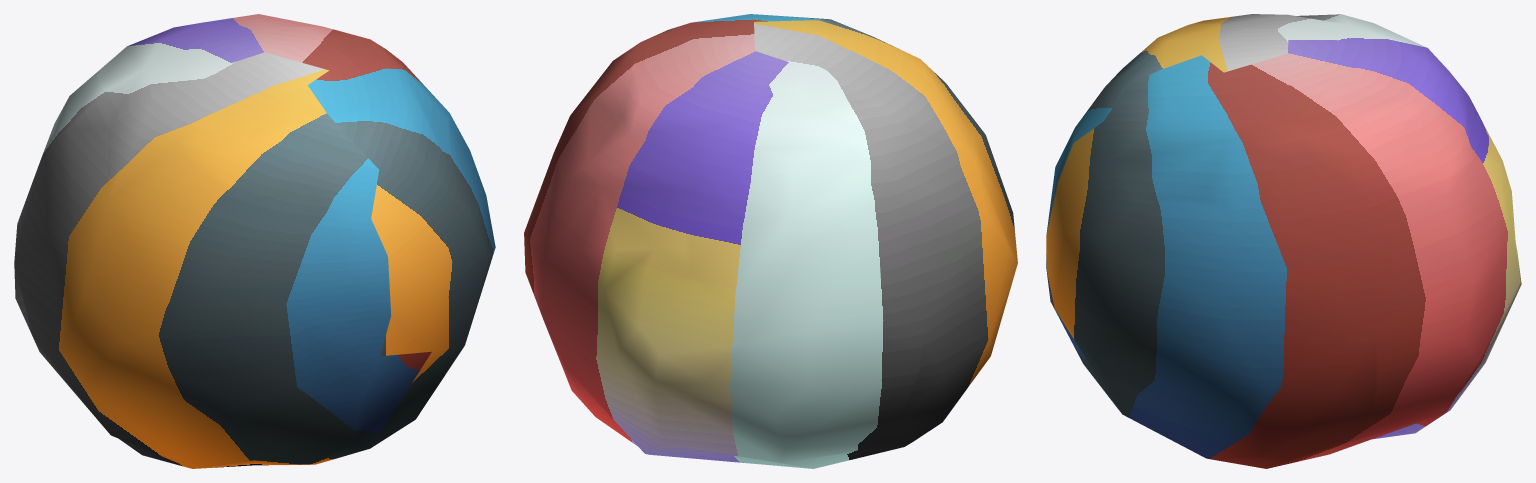
The model's file is Prop_SnowmanBodyLarge.glb.
3 renders of one model, left to right at view 1: azimuth 30°, elevation 25°; view 2: azimuth 150°, elevation 25°; view 3: azimuth 270°, elevation 25°, orthographic. The views are drawn at different scales.
Visible parts, largest first — view 1: Prop_SnowmanBodyLarge; view 2: Prop_SnowmanBodyLarge; view 3: Prop_SnowmanBodyLarge.
Boxes of the visible parts, left/top/right/bottom form: Prop_SnowmanBodyLarge: left=14, top=14, right=495, bottom=468; Prop_SnowmanBodyLarge: left=524, top=14, right=1017, bottom=468; Prop_SnowmanBodyLarge: left=1046, top=14, right=1521, bottom=468.
Bounding box in the file's own units: 0.8453 × 0.764 × 0.8426.
Materials: 1 (1 with a texture image).
